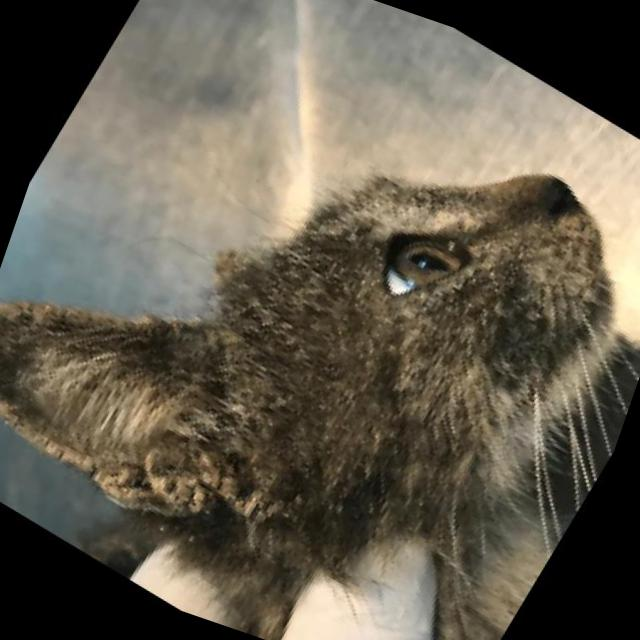Mange: (103, 435, 264, 532), (0, 362, 97, 474), (0, 298, 141, 329)
